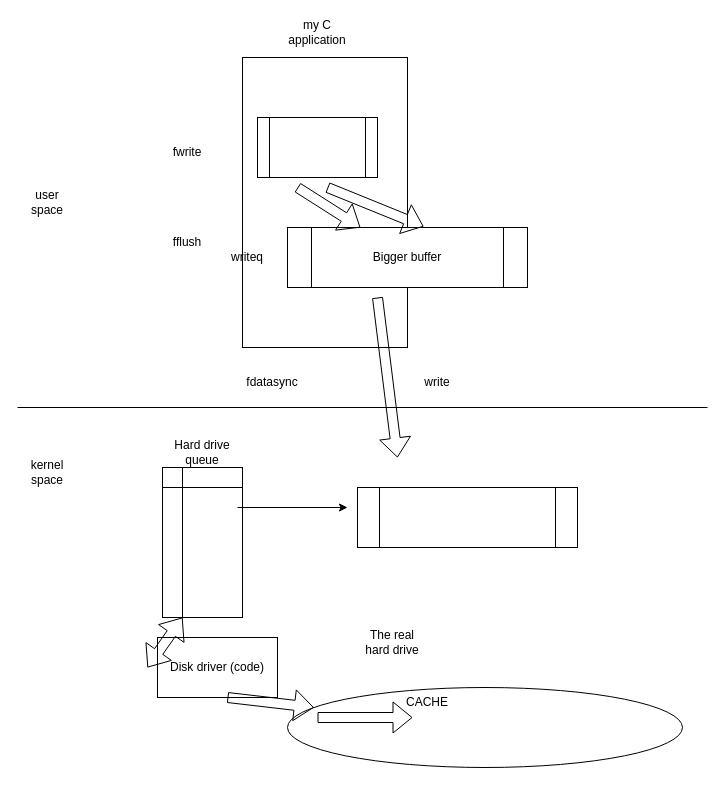
This 726x785 diagram has some shape labels left out. The shapes that lost their labels are listed below. From the top down, each one's centre as x and y in pixels, then its label:
[317,147]: buffer
[467,517]: Copy of your buffer
